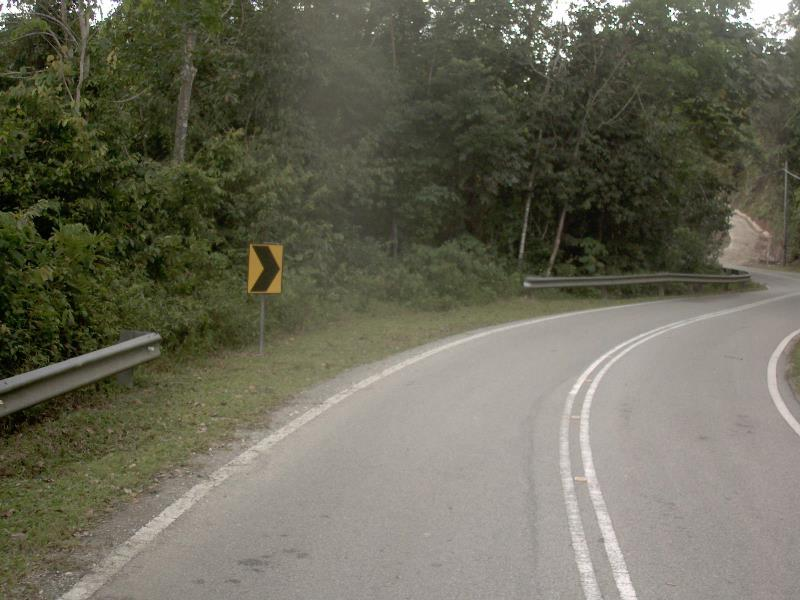traffic_sign: (237, 234, 292, 304)
